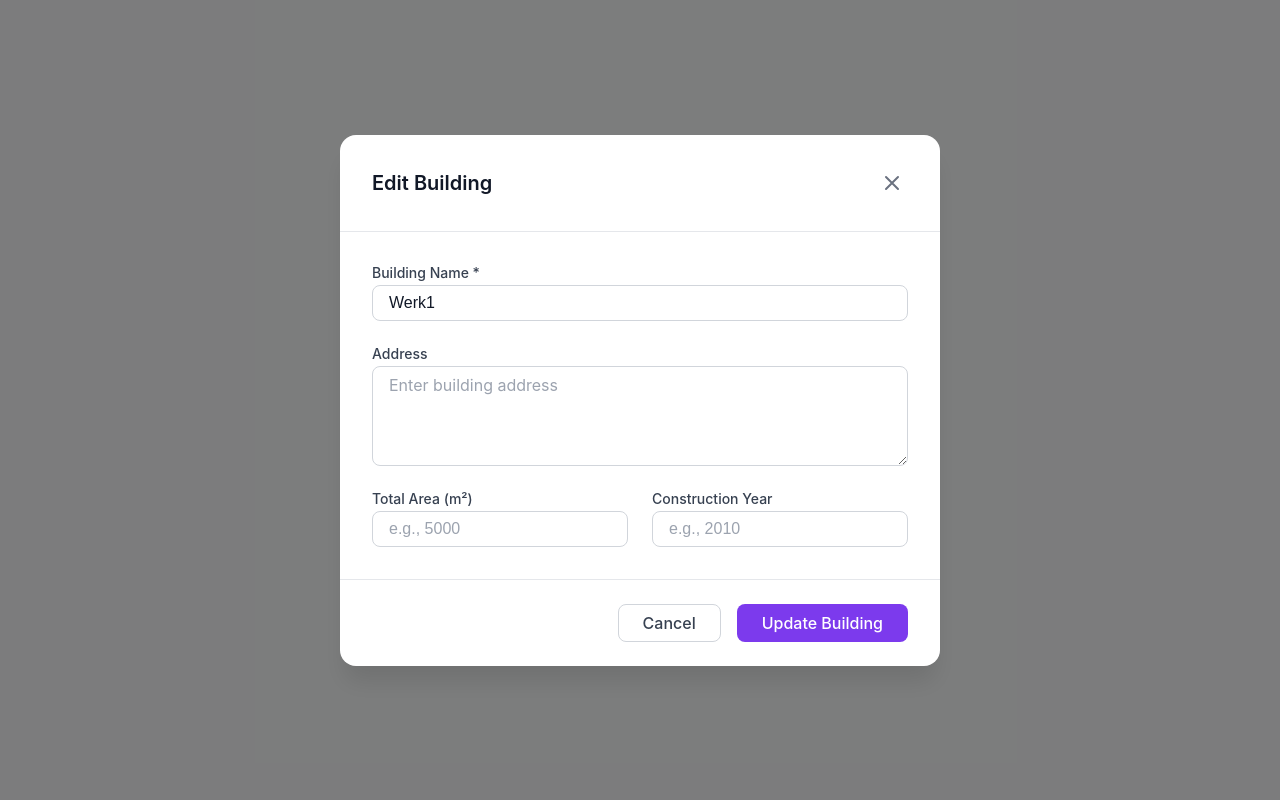
Test: BuildingFormModal › leaves the caches alone when the save fails
Replace the text in the field labelled "Building Name *" with "Werk 1": (640,302) [372,284,908,320]
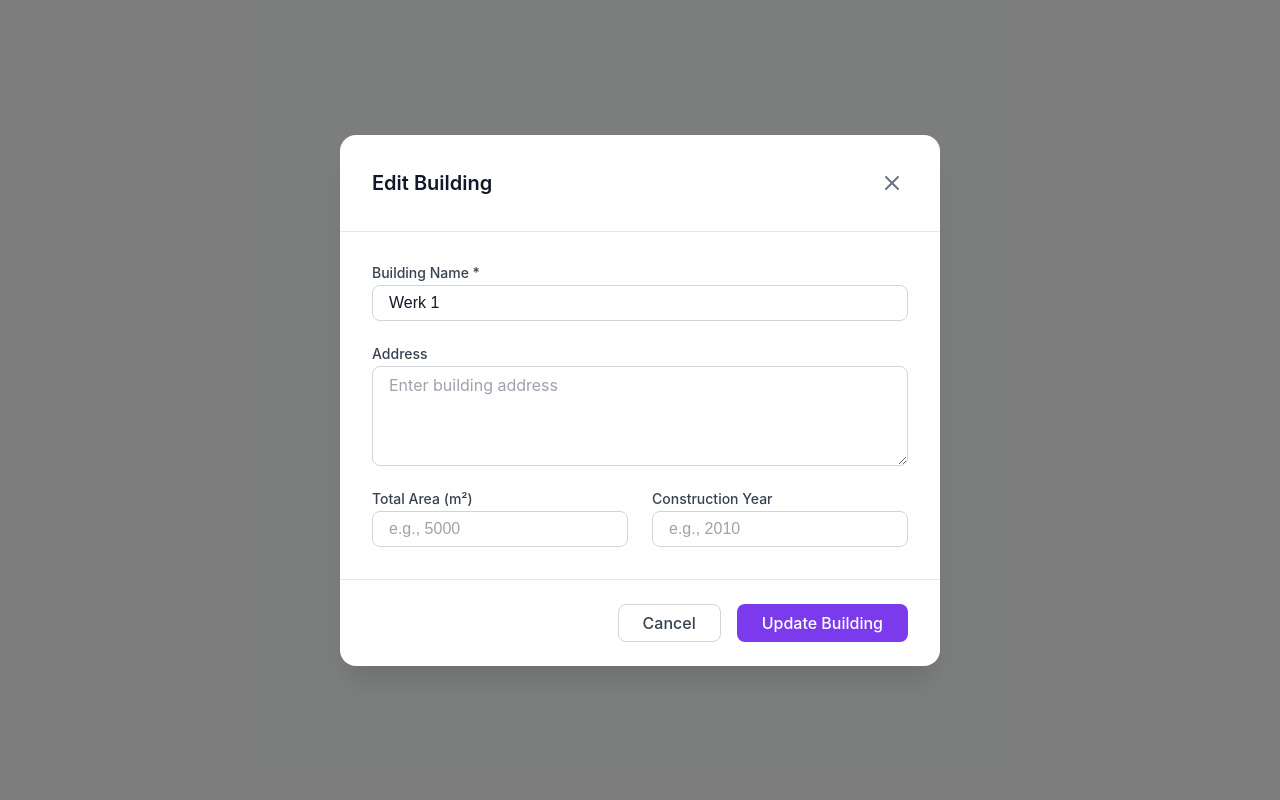
Click the button "Update Building": (822,622) [737,604,908,642]
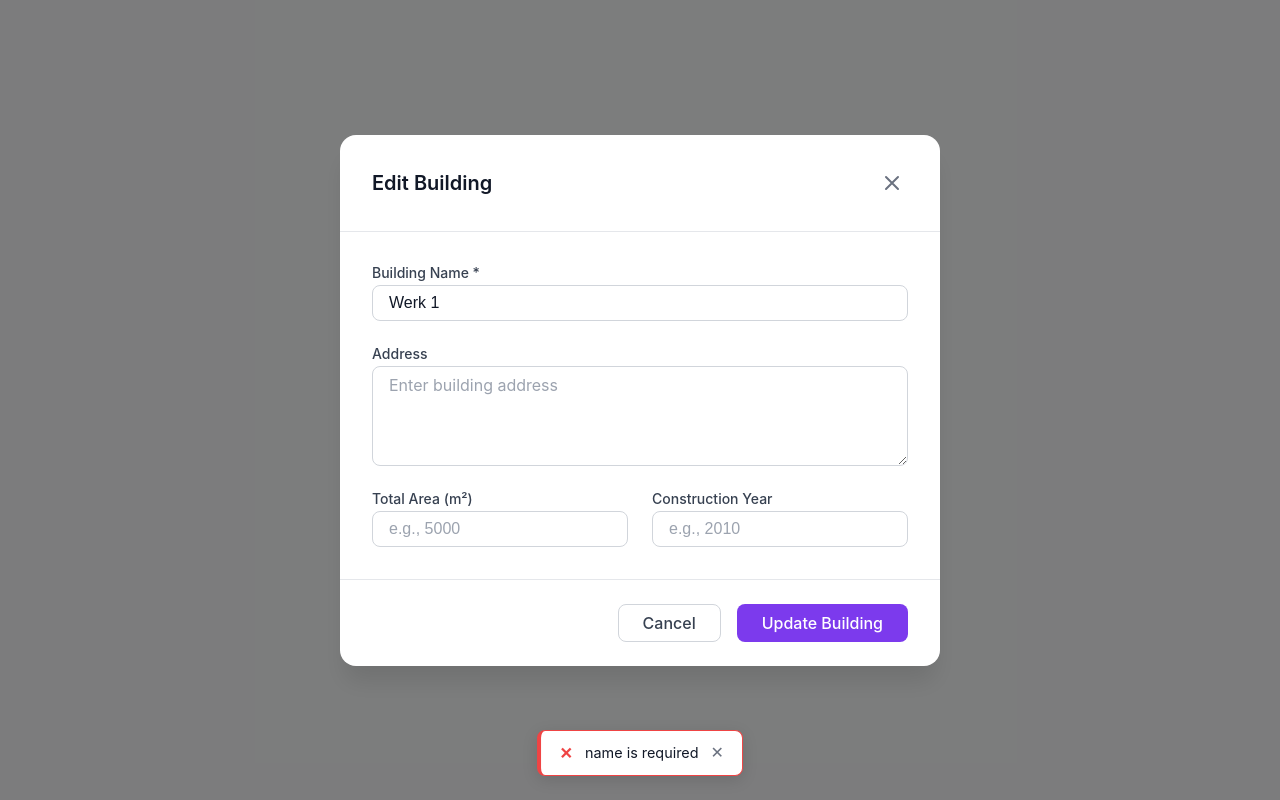
Check: the text "name is required" is shown, box [585,743,698,763]
